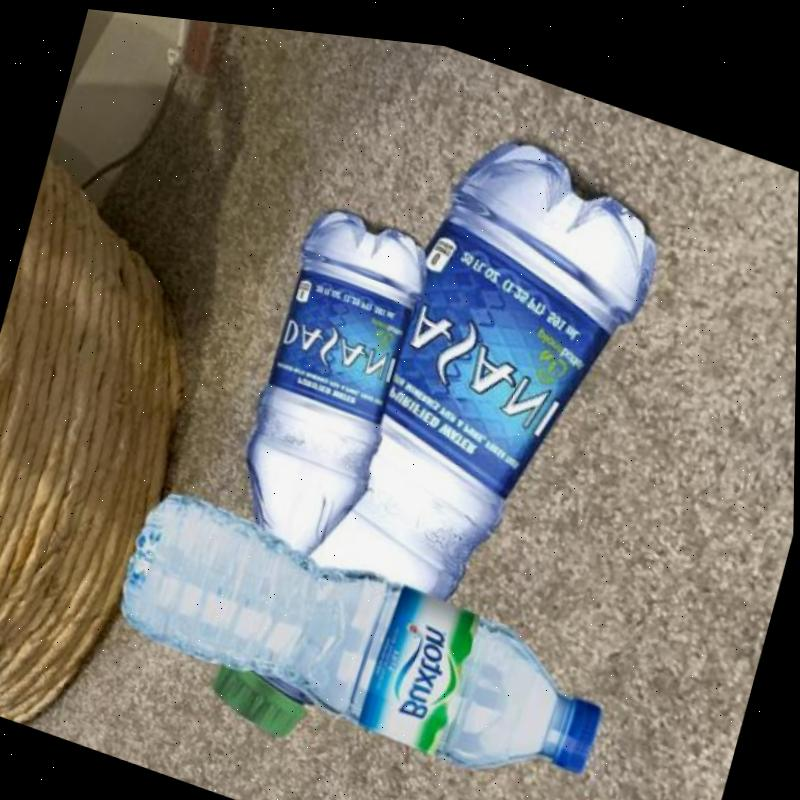botella: (205, 67, 675, 800), (110, 475, 622, 799), (227, 180, 438, 567)
